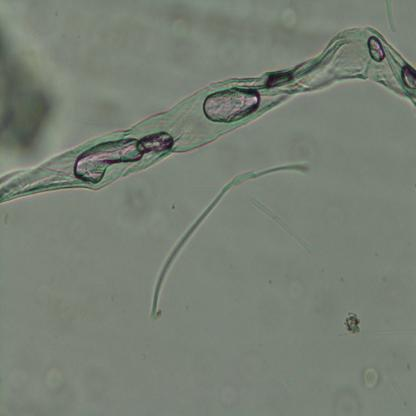Background material: (0, 22, 54, 166), (210, 18, 274, 62), (162, 11, 198, 44), (334, 388, 362, 415), (360, 362, 382, 393), (44, 363, 66, 390), (340, 310, 358, 338), (280, 10, 298, 32), (223, 388, 240, 407)
Cotton: (0, 25, 416, 207)
Glass filter fibre: (150, 158, 310, 322), (245, 191, 312, 252), (352, 322, 416, 337), (391, 376, 415, 414), (384, 0, 398, 34)
